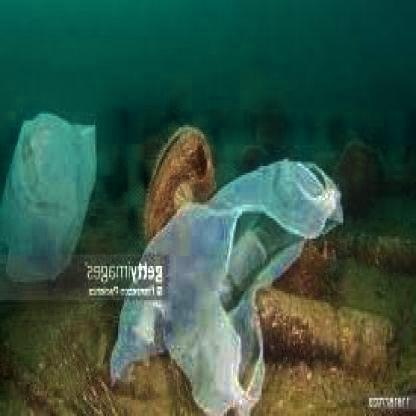pbag: (107, 154, 346, 416), (1, 100, 103, 293)
